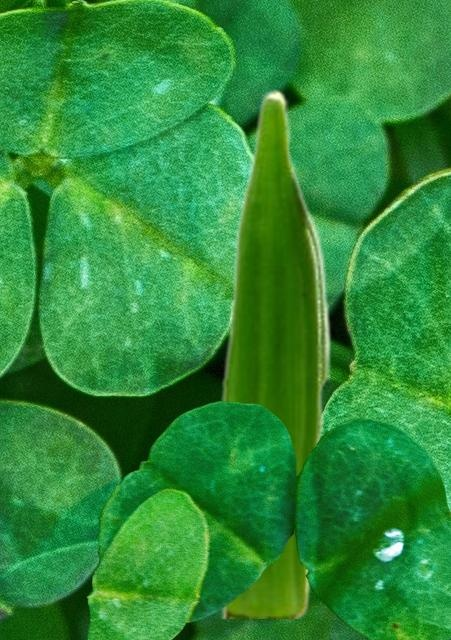okra: (218, 88, 331, 617)
